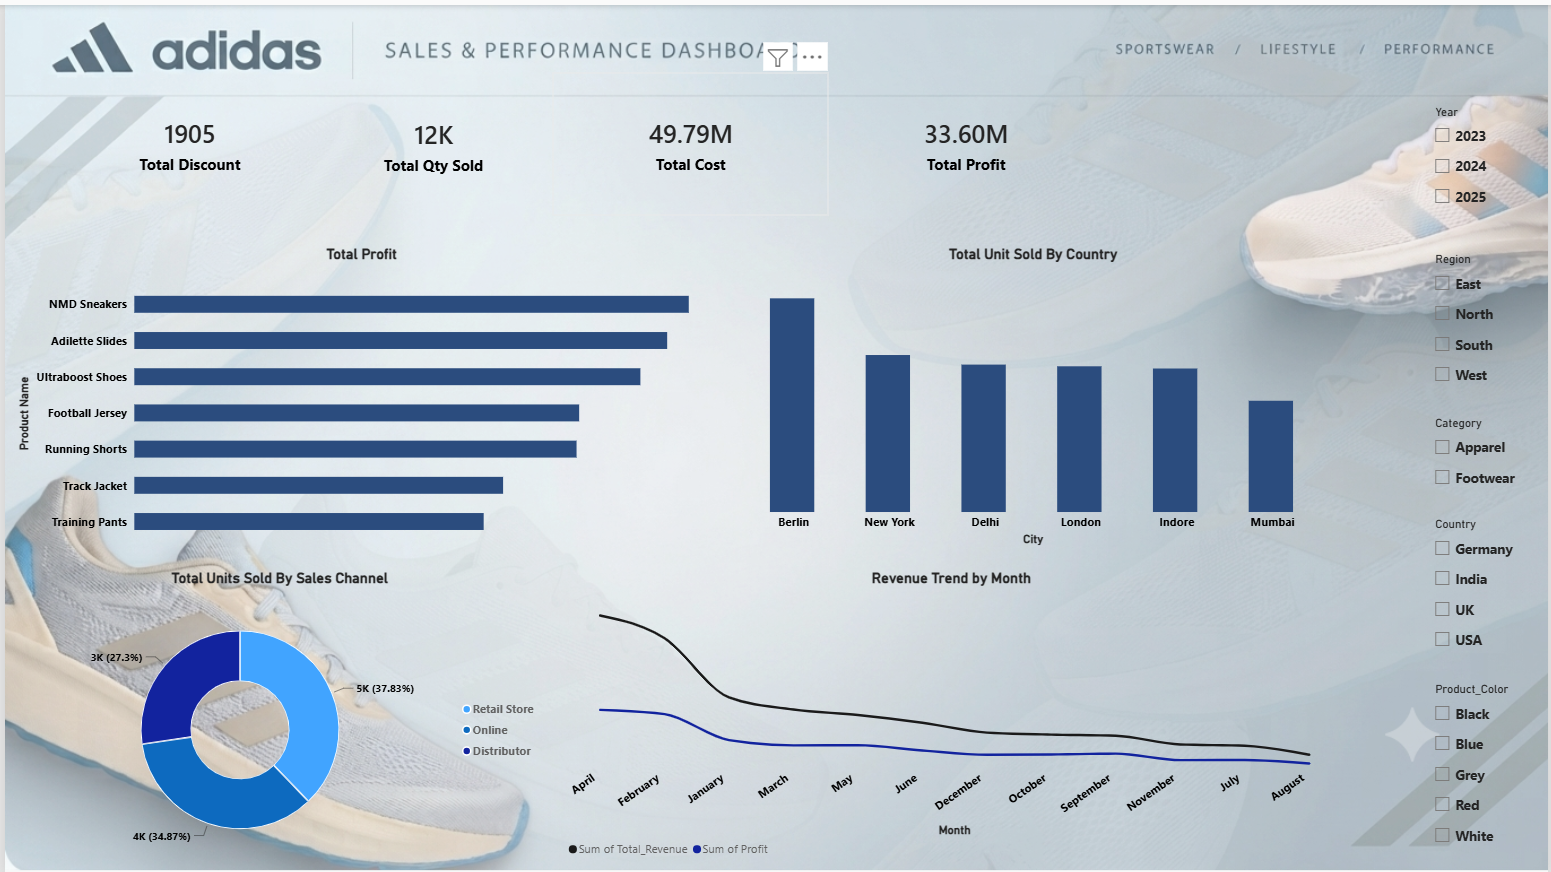

The page's visual inventory and layout, read from the dashboard file:
{"tool":"powerbi","page":{"name":"Page 1","canvas":[1920,1080],"ordinal":0},"visuals":[{"type":"clusteredBarChart","title":"Total Profit","fields":{"Category":["adidas_sales_dataset.Product_Name"],"Y":["Sum(adidas_sales_dataset.Profit)"]},"box":[0,284,887.1,403.4],"z":0},{"type":"columnChart","title":"Total Unit Sold By Country","fields":{"Category":["adidas_sales_dataset.City"],"Y":["Sum(adidas_sales_dataset.Units_Sold)"]},"box":[887.1,284,782.2,403.4],"z":1000},{"type":"pieChart","title":"Total Units Sold By Sales Channel","fields":{"Category":["adidas_sales_dataset.Sales_Channel"],"Y":["Sum(adidas_sales_dataset.Units_Sold)"]},"box":[0,687.5,683.4,393.1],"z":2000},{"type":"lineChart","title":"Revenue Trend by Month","fields":{"Category":["adidas_sales_dataset.Month"],"Y":["Sum(adidas_sales_dataset.Total_Revenue)","Sum(adidas_sales_dataset.Profit)"]},"box":[683.4,687.5,985.9,393.1],"z":3000},{"type":"card","fields":{"Values":["Sum(adidas_sales_dataset.Discount_%)"]},"box":[59.7,84.4,341.7,179.1],"z":4000},{"type":"card","fields":{"Values":["Sum(adidas_sales_dataset.Profit)"]},"box":[1025,84.4,341.7,179.1],"z":5000},{"type":"card","fields":{"Values":["Sum(adidas_sales_dataset.Units_Sold)"]},"box":[361.9,85.1,341.7,179.1],"z":6000},{"type":"card","fields":{"Values":["Sum(adidas_sales_dataset.Total_Cost)"]},"box":[681.3,84.4,343.7,179.1],"z":7000},{"type":"slicer","fields":{"Values":["adidas_sales_dataset.Date.Variation.Date Hierarchy.Year"]},"box":[1769.8,124.9,150.2,159.3],"z":8000},{"type":"slicer","fields":{"Values":["adidas_sales_dataset.Region"]},"box":[1769.8,307.6,150.2,177.3],"z":9000},{"type":"slicer","fields":{"Values":["adidas_sales_dataset.Category"]},"box":[1769.8,512.1,150.2,124.9],"z":10000},{"type":"slicer","fields":{"Values":["adidas_sales_dataset.Country"]},"box":[1769.8,637,150.3,179.1],"z":11000},{"type":"slicer","fields":{"Values":["adidas_sales_dataset.Product_Color"]},"box":[1770.4,842.4,150,213],"z":11001}]}

Visuals, with their boxes in screenshot pixels (x1, y1, x2, y2), scaled from the page's 1920x1080 canvas onto the 1551x872 screenshot:
"Total Profit" clusteredBarChart: l=0, t=229, r=717, b=555
"Total Unit Sold By Country" columnChart: l=717, t=229, r=1348, b=555
"Total Units Sold By Sales Channel" pieChart: l=0, t=555, r=552, b=871
"Revenue Trend by Month" lineChart: l=552, t=555, r=1348, b=871
card - Sum(adidas_sales_dataset.Discount_%): l=48, t=68, r=324, b=213
card - Sum(adidas_sales_dataset.Profit): l=828, t=68, r=1104, b=213
card - Sum(adidas_sales_dataset.Units_Sold): l=292, t=69, r=568, b=213
card - Sum(adidas_sales_dataset.Total_Cost): l=550, t=68, r=828, b=213
slicer - adidas_sales_dataset.Date.Variation.Date Hierarchy.Year: l=1430, t=101, r=1550, b=229
slicer - adidas_sales_dataset.Region: l=1430, t=248, r=1550, b=392
slicer - adidas_sales_dataset.Category: l=1430, t=413, r=1550, b=514
slicer - adidas_sales_dataset.Country: l=1430, t=514, r=1550, b=659
slicer - adidas_sales_dataset.Product_Color: l=1430, t=680, r=1550, b=852
